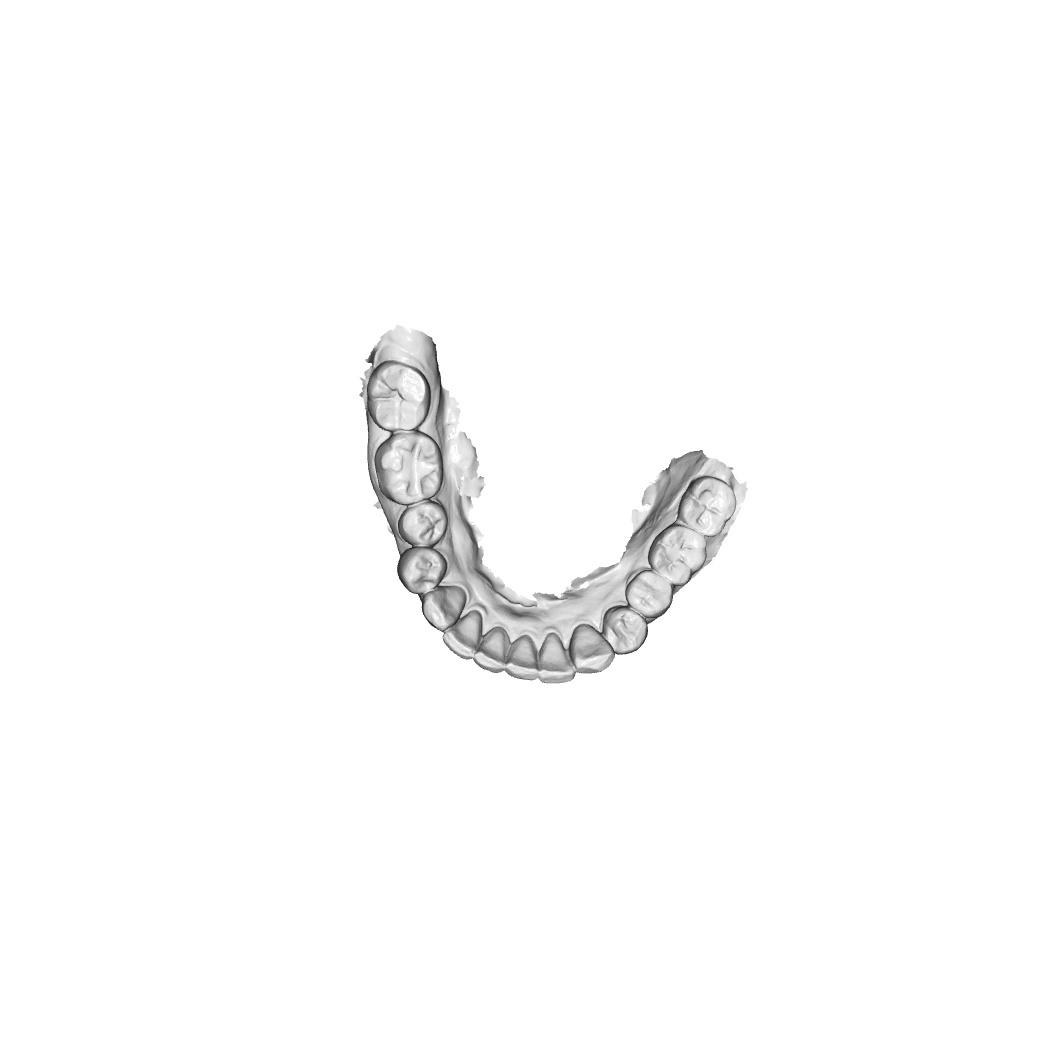canine: (568, 623, 616, 675), (421, 585, 468, 633)
incisor: (442, 610, 483, 661), (538, 632, 576, 686), (473, 625, 509, 675), (505, 634, 539, 682)
molar: (373, 429, 444, 507), (366, 359, 432, 432), (647, 522, 709, 586), (676, 476, 737, 537)
premolar: (397, 499, 449, 548), (624, 569, 674, 619), (396, 547, 448, 595), (602, 604, 649, 655)
